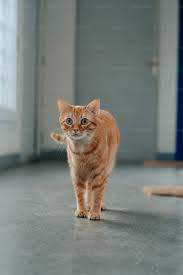cat: (50, 98, 121, 222)
